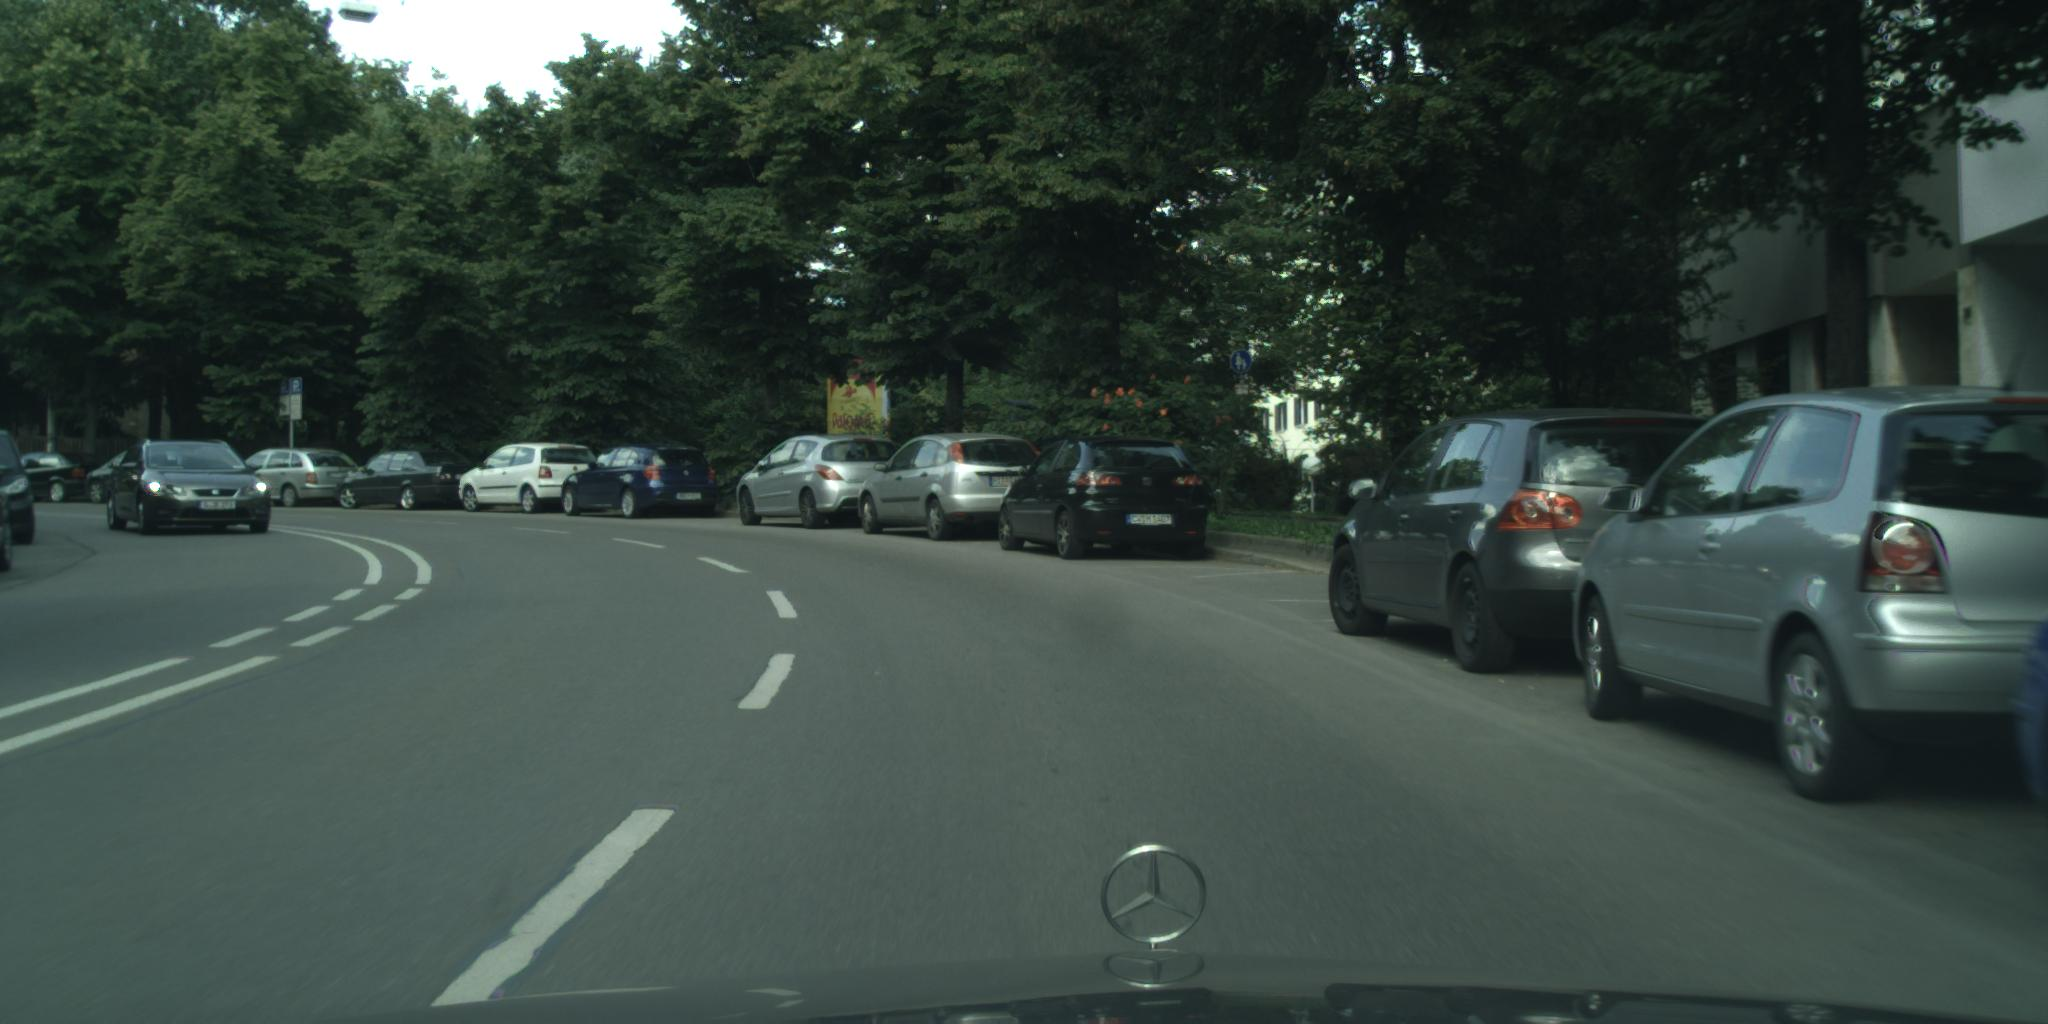car: (1569, 385, 2045, 806), (1327, 406, 1725, 677), (999, 435, 1211, 562), (858, 432, 1041, 542), (737, 431, 909, 529), (107, 438, 274, 536), (562, 444, 721, 520), (458, 440, 601, 515), (229, 448, 368, 509), (334, 449, 468, 512), (14, 449, 111, 504), (1, 431, 40, 552), (85, 445, 135, 505), (1, 460, 21, 575)
